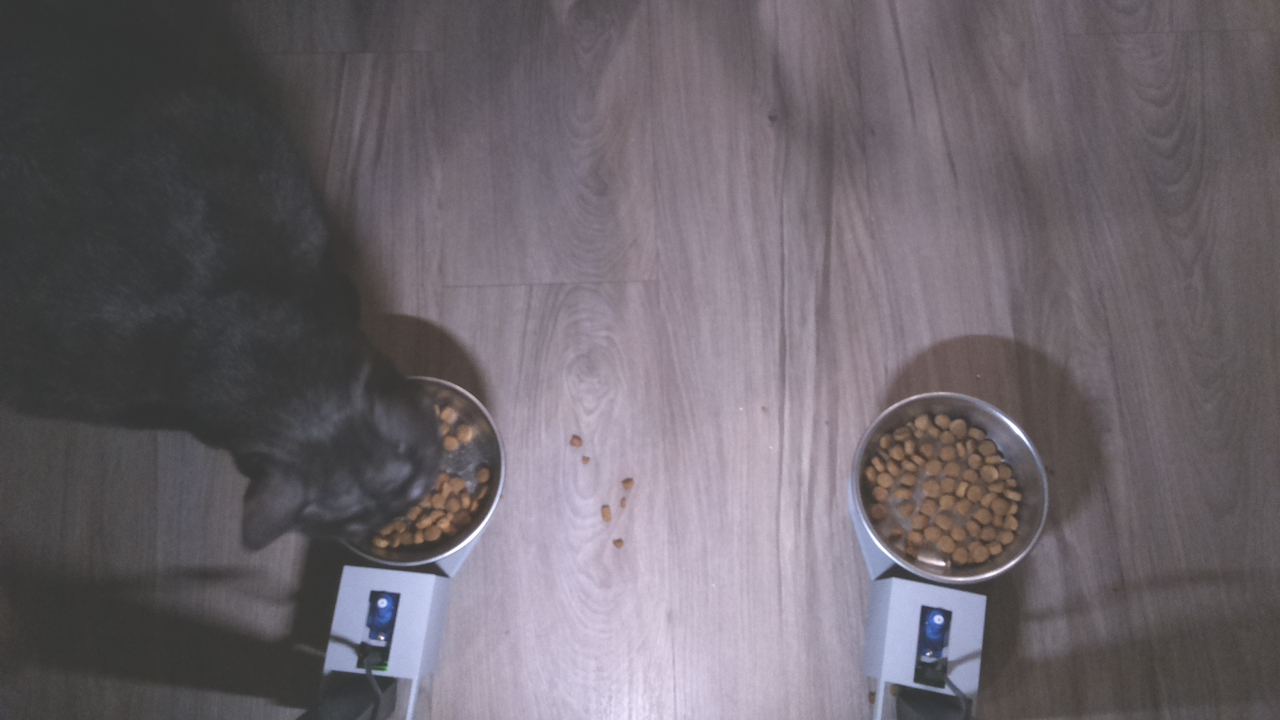open_bowl: (848, 391, 1049, 585)
saki_eating: (223, 327, 504, 572)
